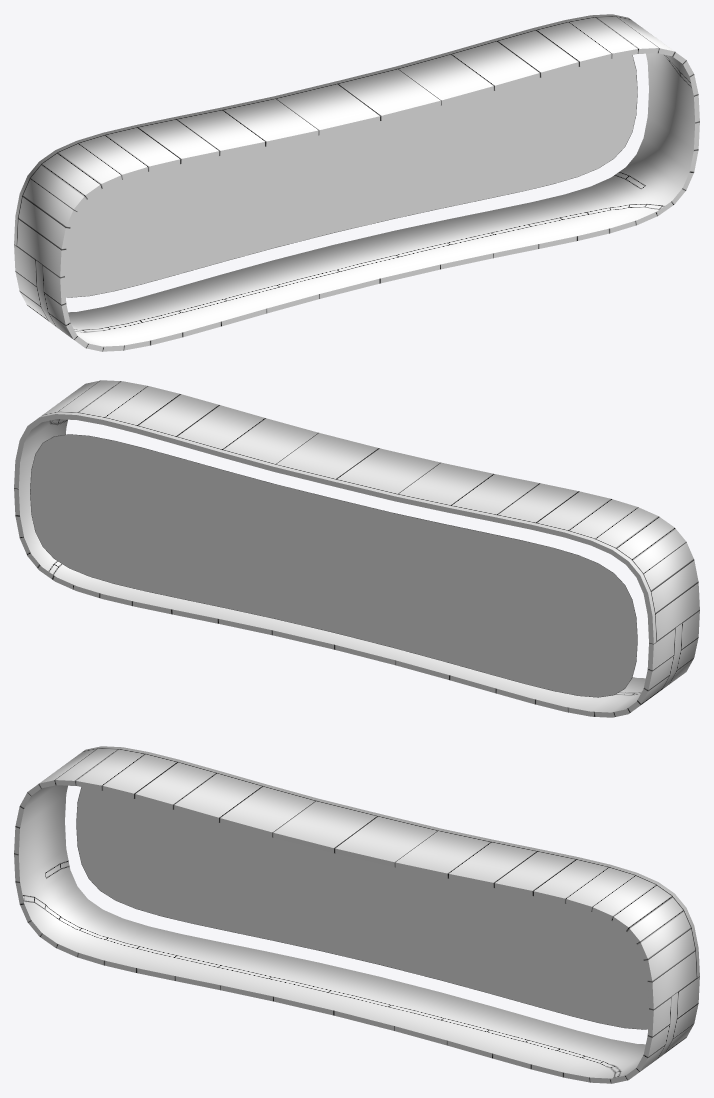
Rendered from tank2.fbx.
The picture shows the model from 3 angles, top to bottom: view 1: azimuth 30°, elevation 25°; view 2: azimuth 150°, elevation 25°; view 3: azimuth 330°, elevation 25°; orthographic projection.
Parts seen in each view (by area): view 1: BezierCircle, BezierCircle.001; view 2: BezierCircle.001, BezierCircle; view 3: BezierCircle, BezierCircle.001.
Boxes of the visible parts, bbox=[...] form: BezierCircle: bbox=[14, 14, 699, 351]; BezierCircle.001: bbox=[65, 55, 637, 297]; BezierCircle.001: bbox=[30, 434, 637, 697]; BezierCircle: bbox=[14, 380, 699, 717]; BezierCircle: bbox=[14, 746, 699, 1083]; BezierCircle.001: bbox=[76, 787, 648, 1029].
Size of the model in its own units: 4 by 1.07 by 0.5003.
2 materials, 2 textured.
